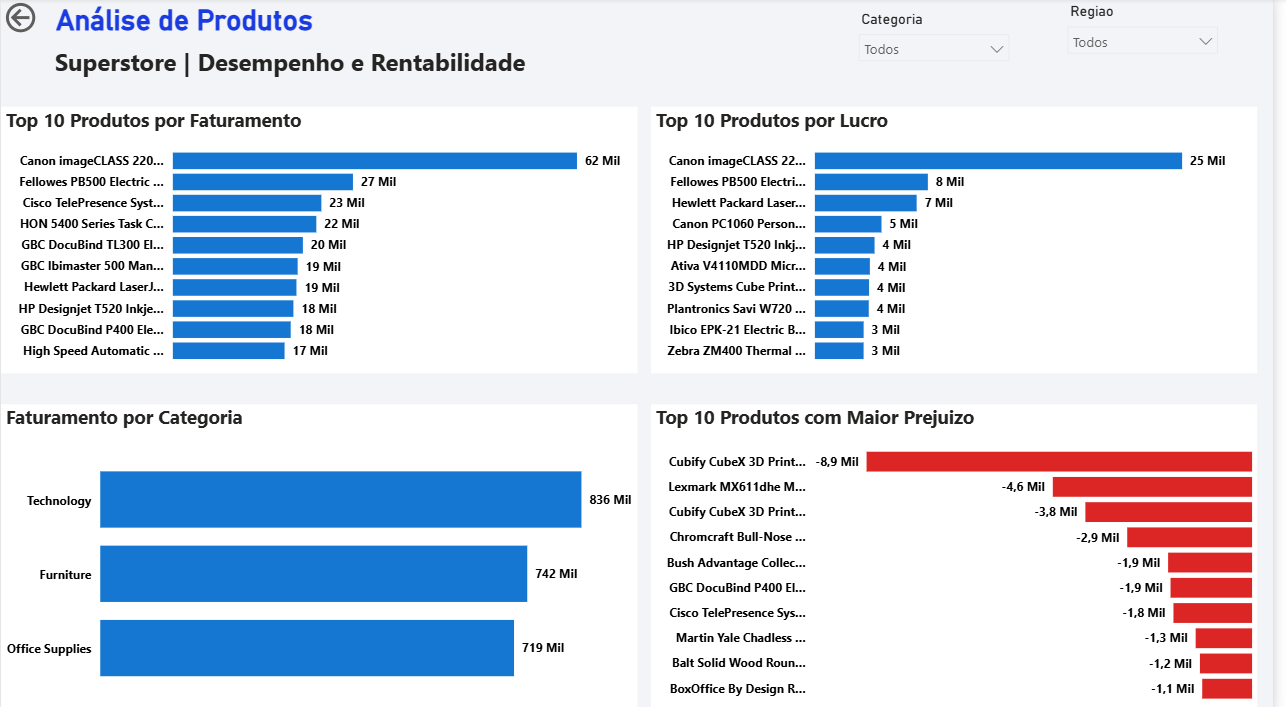

The page's visual inventory and layout, read from the dashboard file:
{"tool":"powerbi","page":{"name":"Produtos","canvas":[1280,720],"ordinal":1},"visuals":[{"type":"textbox","box":[49.7,0,314.9,58.6],"z":0},{"type":"textbox","box":[150,199,300,300],"z":1000},{"type":"textbox","box":[49,42.7,493.3,66.3],"z":2000},{"type":"actionButton","box":[0,0,49.3,39.4],"z":3000},{"type":"clusteredBarChart","title":"Top 10 Produtos por Faturamento","fields":{"Category":["vw_produtos_superstore.Product_Name"],"Y":["Sum(vw_produtos_superstore.faturamento)"]},"box":[0,109.4,639.8,267.7],"z":4000},{"type":"clusteredBarChart","title":"Top 10 Produtos por Lucro ","fields":{"Category":["vw_produtos_superstore.Product_Name"],"Y":["Sum(vw_produtos_superstore.lucro)"]},"box":[653.6,109.4,609.6,267.7],"z":5000},{"type":"clusteredBarChart","title":"Faturamento por Categoria","fields":{"Category":["vw_produtos_superstore.Category"],"Y":["Sum(vw_produtos_superstore.faturamento)"]},"box":[0,408.5,639.8,311.7],"z":6000},{"type":"clusteredBarChart","title":"Top 10 Produtos com Maior Prejuizo","fields":{"Category":["vw_produtos_superstore.Product_Name"],"Y":["Sum(vw_produtos_superstore.lucro)"]},"box":[653.6,408.5,609.6,311.7],"z":7000},{"type":"slicer","title":"Categoria","fields":{"Values":["vw_produtos_superstore.Category"]},"box":[852.1,7,171.8,84.5],"z":8000},{"type":"slicer","title":"Categoria","fields":{"Values":["vw_kpis_superstore.Region"]},"box":[1062,0,171.8,84.5],"z":9000}]}

Visuals, with their boxes in screenshot pixels (x1, y1, x2, y2), scaled from the page's 1280x720 canvas onto the 1286x707 screenshot:
textbox: [50, 0, 366, 58]
textbox: [151, 195, 452, 490]
textbox: [49, 42, 545, 107]
actionButton: [0, 0, 50, 39]
"Top 10 Produtos por Faturamento" clusteredBarChart: [0, 107, 643, 370]
"Top 10 Produtos por Lucro " clusteredBarChart: [657, 107, 1269, 370]
"Faturamento por Categoria" clusteredBarChart: [0, 401, 643, 706]
"Top 10 Produtos com Maior Prejuizo" clusteredBarChart: [657, 401, 1269, 706]
"Categoria" slicer: [856, 7, 1029, 90]
"Categoria" slicer: [1067, 0, 1240, 83]
